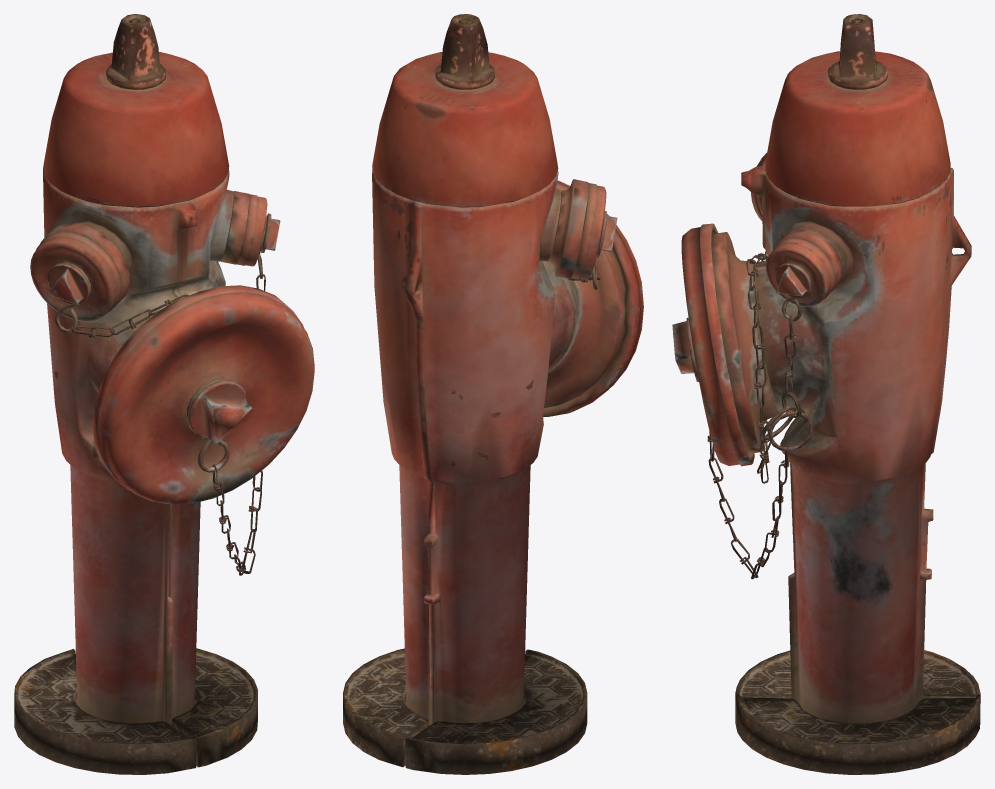
The model's file is fire_hydrant.glb.
The picture shows the model from 3 angles, left to right: view 1: azimuth 30°, elevation 25°; view 2: azimuth 150°, elevation 25°; view 3: azimuth 270°, elevation 25°; orthographic projection.
Parts seen in each view (by area): view 1: fire_hydrant_aged; view 2: fire_hydrant_aged; view 3: fire_hydrant_aged.
Boxes of the visible parts, bbox=[...] form: fire_hydrant_aged: bbox=[14, 14, 314, 774]; fire_hydrant_aged: bbox=[343, 14, 643, 774]; fire_hydrant_aged: bbox=[672, 14, 980, 774].
Bounding box in the file's own units: 0.2746 × 0.7994 × 0.3173.
1 material, 1 textured.
